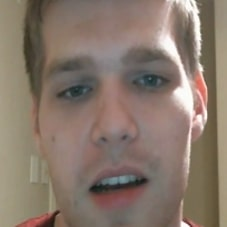awake: (45, 51, 183, 211)
